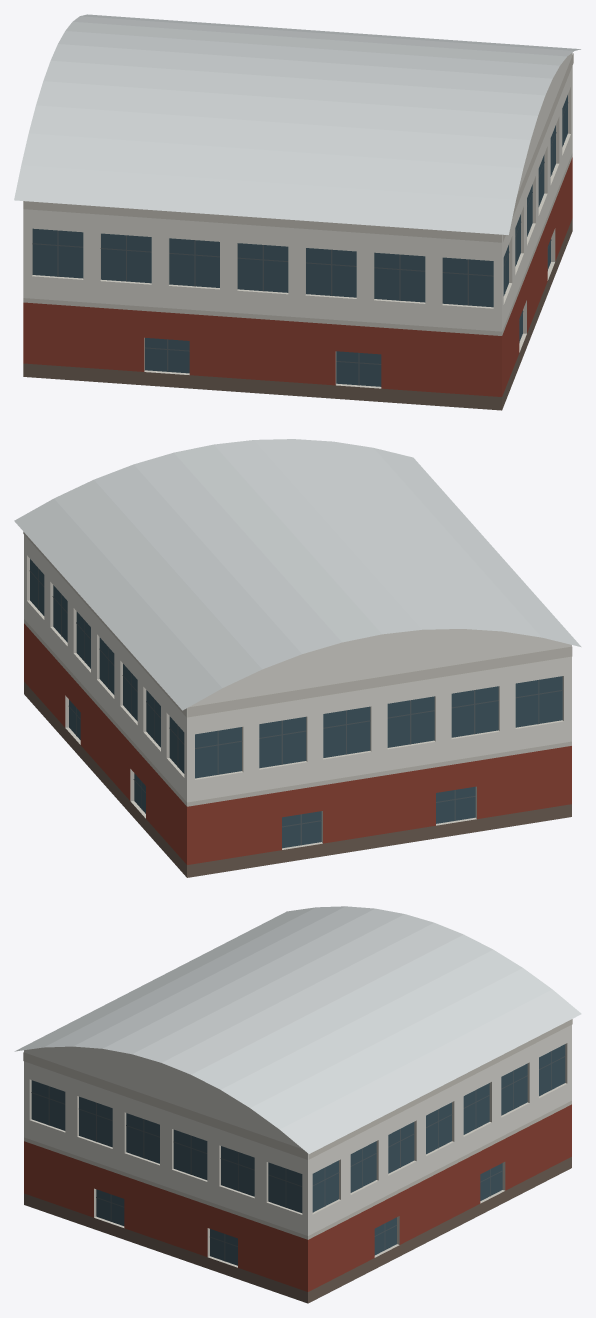
3 views of the same model, one above another, from view 1: azimuth 30°, elevation 25°; view 2: azimuth 150°, elevation 25°; view 3: azimuth 270°, elevation 25° (orthographic). The views are drawn at different scales.
Visible parts, largest first — view 1: hall3__roof-metal, hall3__wall-plaster, hall3__brick, hall3__glass, hall3__trim-concrete, hall3__base-stone, hall3__frame; view 2: hall3__roof-metal, hall3__wall-plaster, hall3__brick, hall3__glass, hall3__trim-concrete, hall3__base-stone, hall3__frame; view 3: hall3__roof-metal, hall3__wall-plaster, hall3__brick, hall3__glass, hall3__trim-concrete, hall3__base-stone, hall3__frame.
Part boxes in pixels (box(x1,y1,x2,y2)): hall3__roof-metal: box(14, 14, 580, 234); hall3__wall-plaster: box(23, 53, 572, 331); hall3__brick: box(23, 157, 572, 396); hall3__glass: box(32, 95, 567, 386); hall3__trim-concrete: box(23, 53, 573, 388); hall3__base-stone: box(23, 218, 572, 410); hall3__frame: box(32, 102, 568, 385); hall3__roof-metal: box(14, 439, 581, 710); hall3__wall-plaster: box(24, 535, 571, 802); hall3__brick: box(24, 623, 571, 864); hall3__glass: box(30, 559, 562, 848); hall3__trim-concrete: box(23, 532, 572, 849); hall3__base-stone: box(24, 682, 571, 877); hall3__frame: box(29, 568, 562, 845); hall3__roof-metal: box(14, 906, 581, 1153); hall3__wall-plaster: box(24, 1025, 571, 1235); hall3__brick: box(24, 1104, 571, 1291); hall3__glass: box(31, 1044, 565, 1265); hall3__trim-concrete: box(23, 1019, 572, 1267); hall3__base-stone: box(24, 1157, 571, 1303); hall3__frame: box(31, 1051, 565, 1261).
Bounding box in the file's own units: 40.85 × 15.19 × 40.38.
